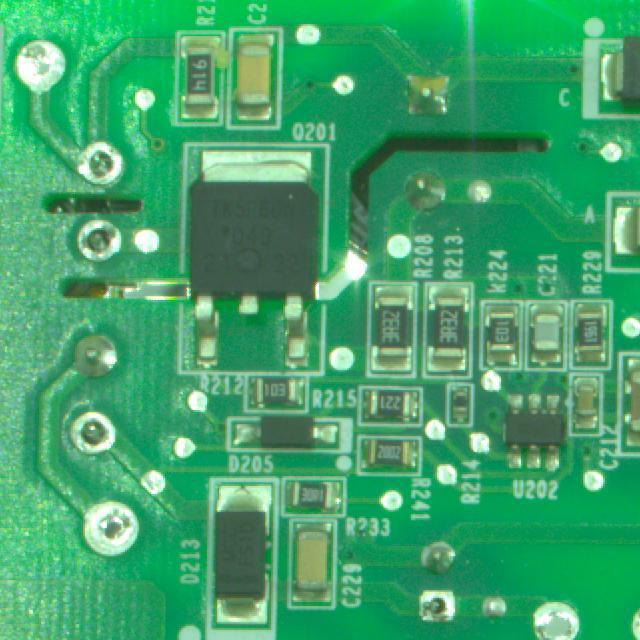Insufficient solder: (75, 494, 143, 566), (12, 35, 69, 98), (74, 134, 129, 192), (68, 408, 121, 460), (75, 216, 126, 263), (417, 581, 457, 632)
